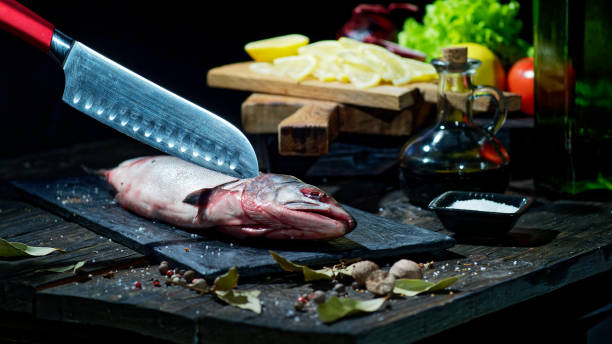knife: (1, 0, 263, 183)
